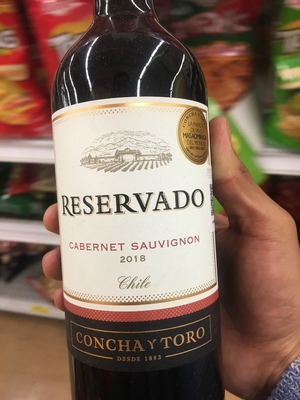reservado cabernet sauvignon: (48, 1, 230, 400)
